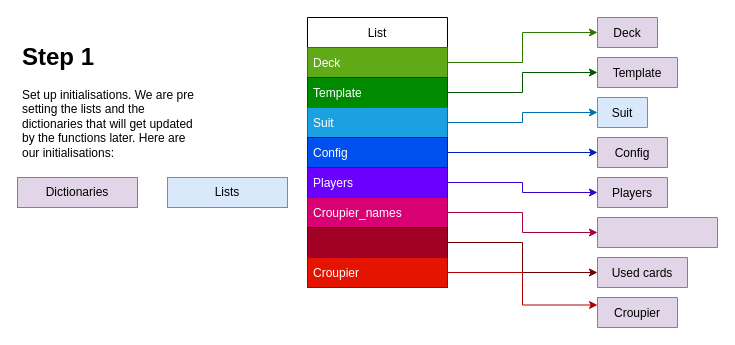
The diagram is 735 pixels wide and 345 high, and some of its shapes have lost their labels. Each missing label, with the centre of its shape:
"Croupier names" belongs at [657,232].
"used_cards" belongs at [377,242].
